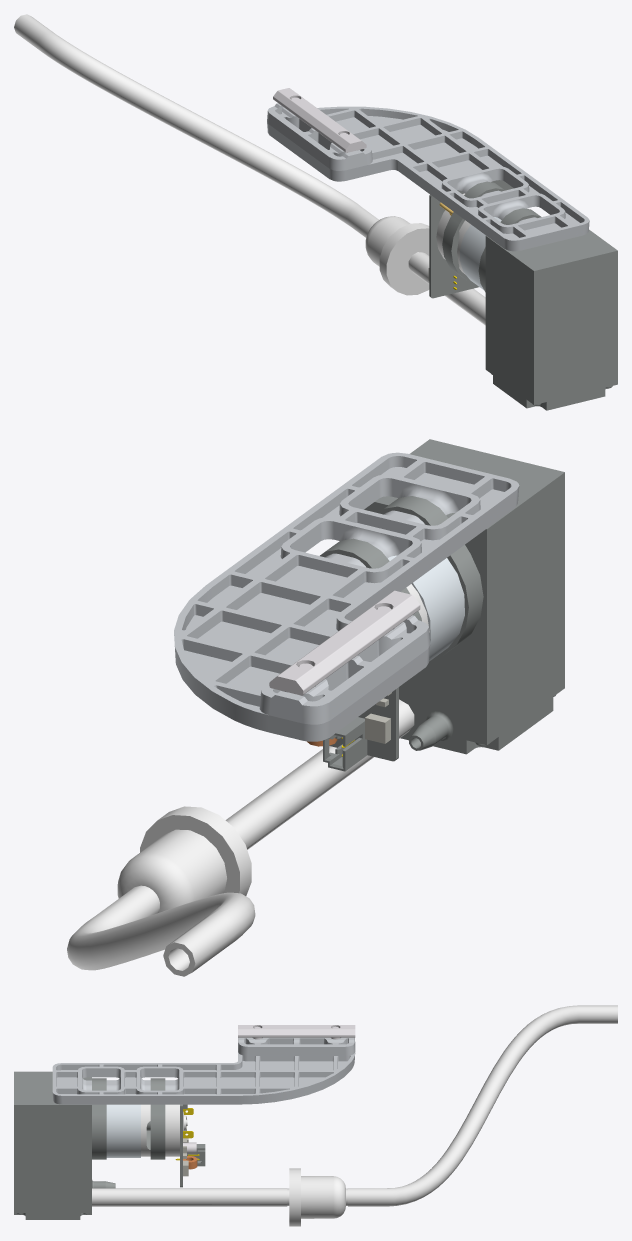
Rendered from vacuum_pump.glb.
3 views of the same model, one above another, from view 1: azimuth 30°, elevation 25°; view 2: azimuth 150°, elevation 25°; view 3: azimuth 270°, elevation 25° (orthographic). The views are drawn at different scales.
Parts seen in each view (by area): view 1: Lower Vacuum Tube; view 2: Lower Vacuum Tube; view 3: Lower Vacuum Tube.
Boxes of the visible parts, x1,y1,x2,y2 form: Lower Vacuum Tube: (14, 14, 617, 410); Lower Vacuum Tube: (67, 439, 564, 976); Lower Vacuum Tube: (14, 1005, 617, 1226).
Bounding box in the file's own units: 0.11 × 0.0904 × 0.3092.
1 material, 1 textured.
